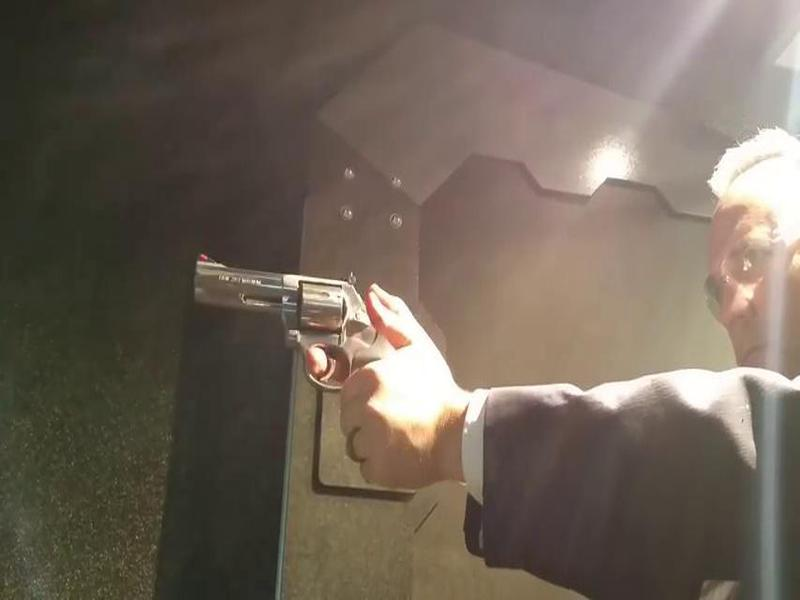Revolver: (175, 254, 396, 426)
